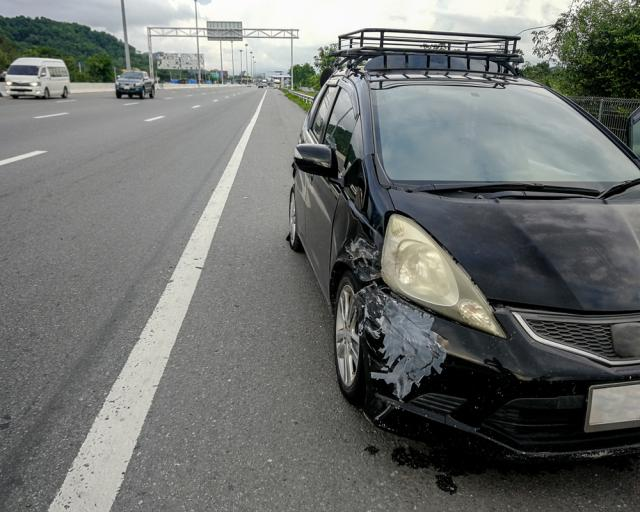dent: (337, 208, 381, 279)
scratch: (363, 292, 444, 398)
